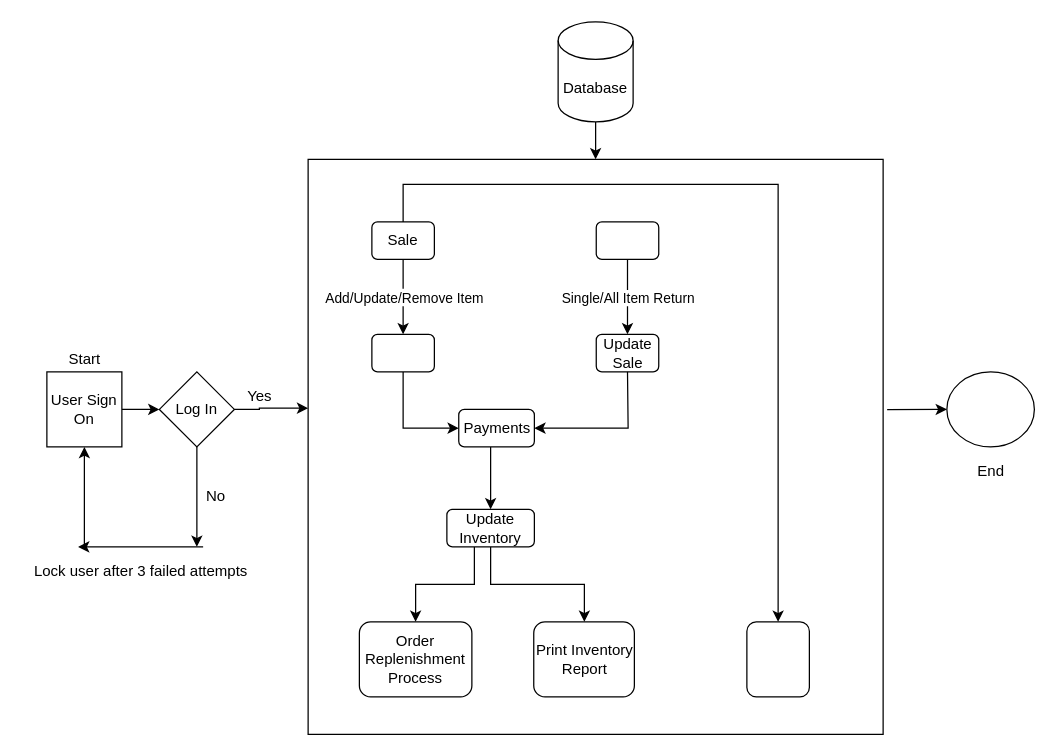
This 1056x756 diagram has some shape labels left out. Each missing label, with the centre of its shape:
Exit: the point at 990,409
Record Sale: the point at 402,352
Returns: the point at 627,240
Todays Item Sold Report: the point at 777,659
